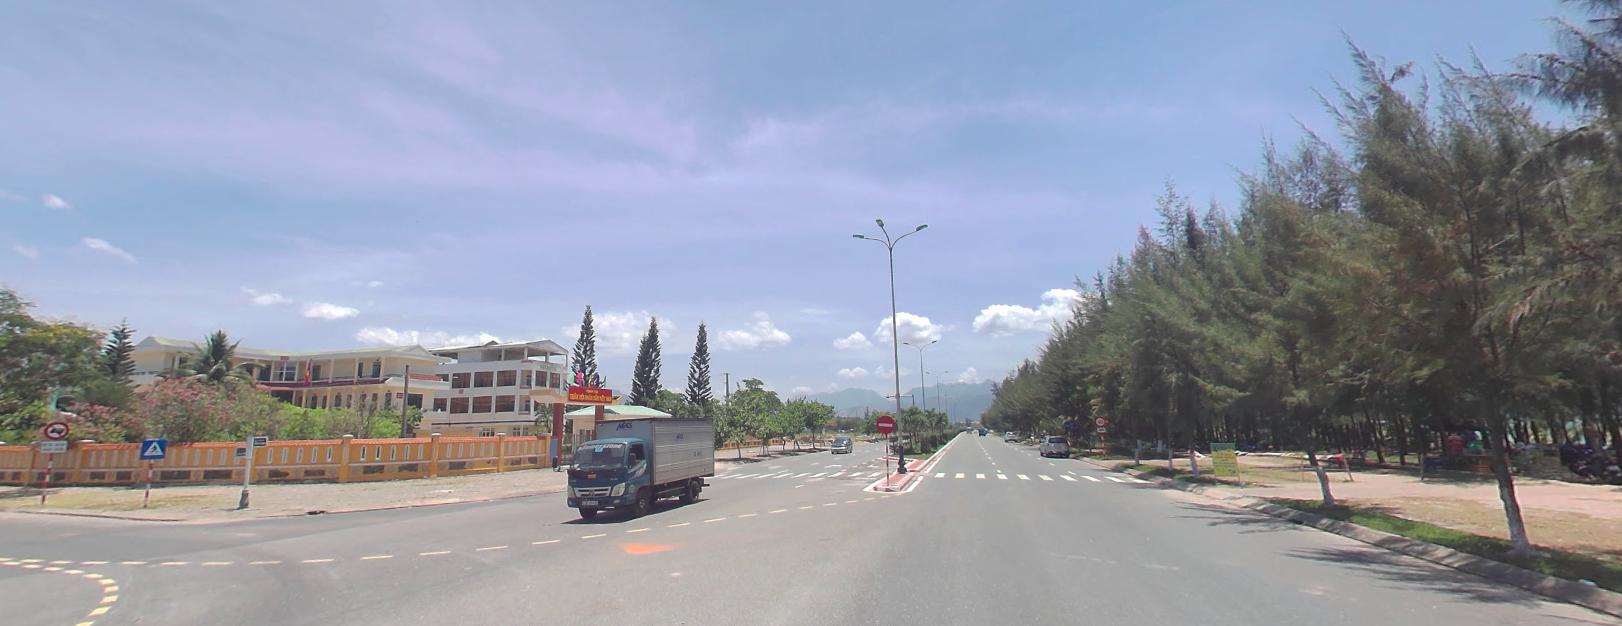Cam con lai: (42, 418, 71, 438)
Cam nguoc chieu: (873, 414, 895, 433)
Gioi han toc do: (1094, 415, 1104, 424)
